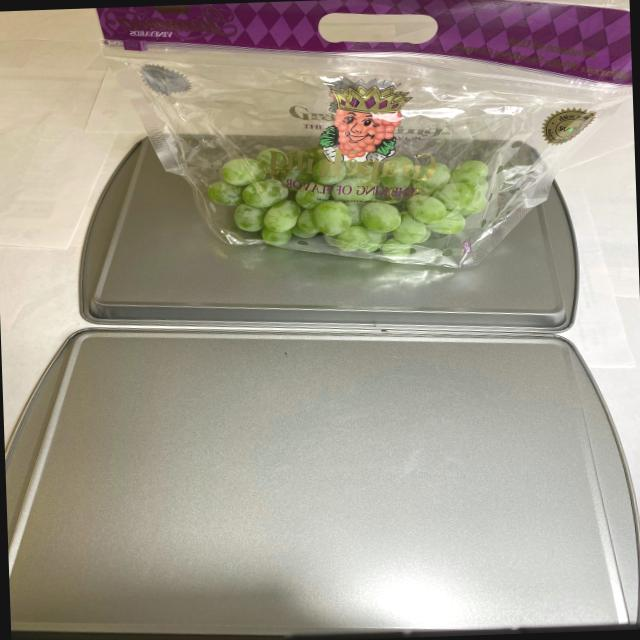grapes: (186, 132, 498, 274)
